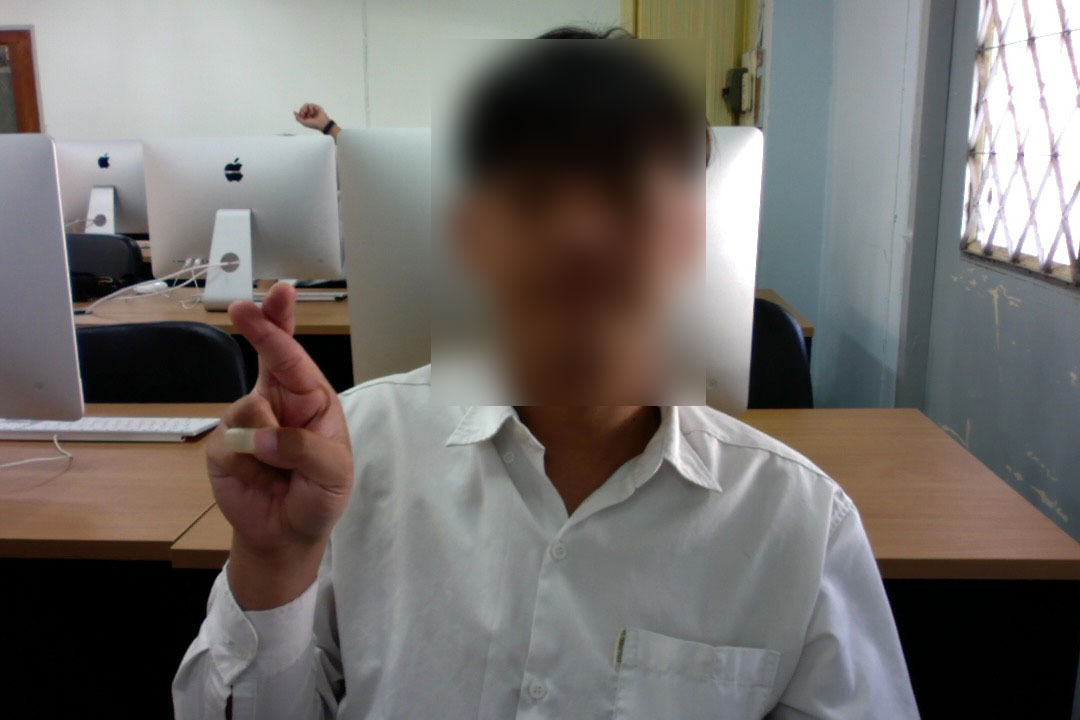rao: (189, 262, 371, 557)
